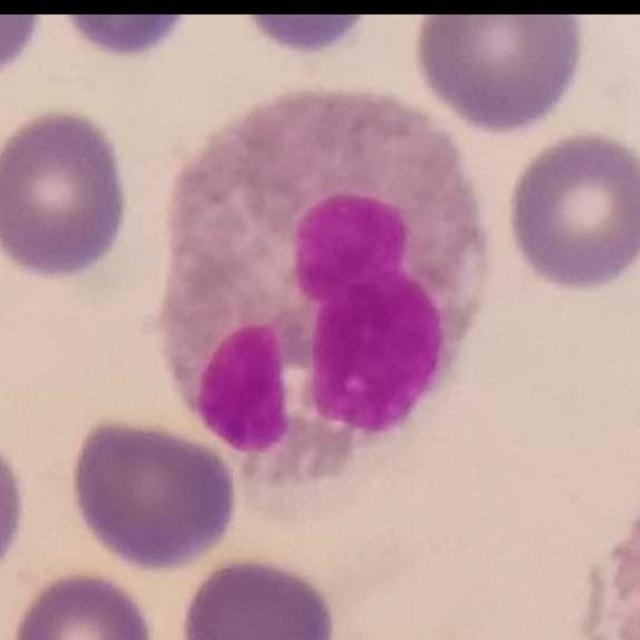Eosinophil: (144, 80, 490, 498)
RBC: (66, 413, 242, 574), (0, 101, 136, 283), (501, 126, 640, 296), (409, 14, 592, 137), (176, 551, 343, 640), (5, 565, 162, 640), (48, 14, 205, 64), (231, 13, 383, 60), (0, 421, 32, 592), (0, 14, 52, 84)
